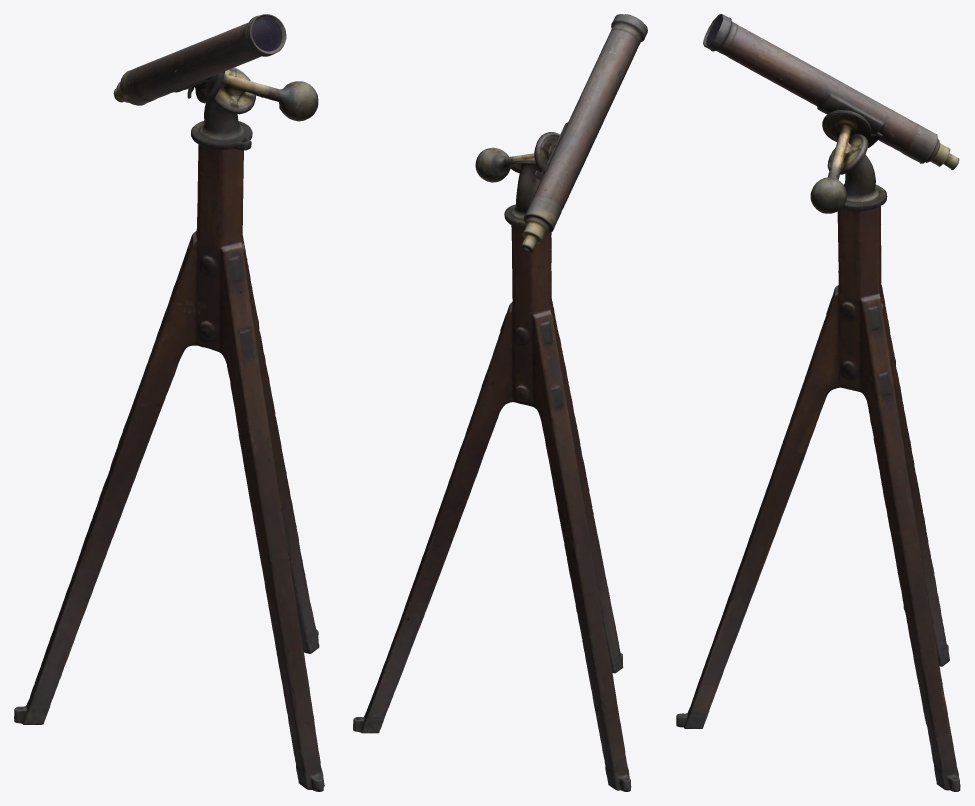
Rendered from luneta-cometa.glb.
The picture shows the model from 3 angles, left to right: view 1: azimuth 30°, elevation 25°; view 2: azimuth 150°, elevation 25°; view 3: azimuth 270°, elevation 25°; orthographic projection. The views are drawn at different scales.
Visible parts, largest first — view 1: luneta-cometa; view 2: luneta-cometa; view 3: luneta-cometa.
Part boxes in pixels (x1,y1,x2,y2): luneta-cometa: [14, 14, 324, 791]; luneta-cometa: [353, 14, 647, 791]; luneta-cometa: [676, 14, 960, 791].
Size of the model in its own units: 0.761 by 1.8 by 0.6684.
Materials: 2 (1 with a texture image).
